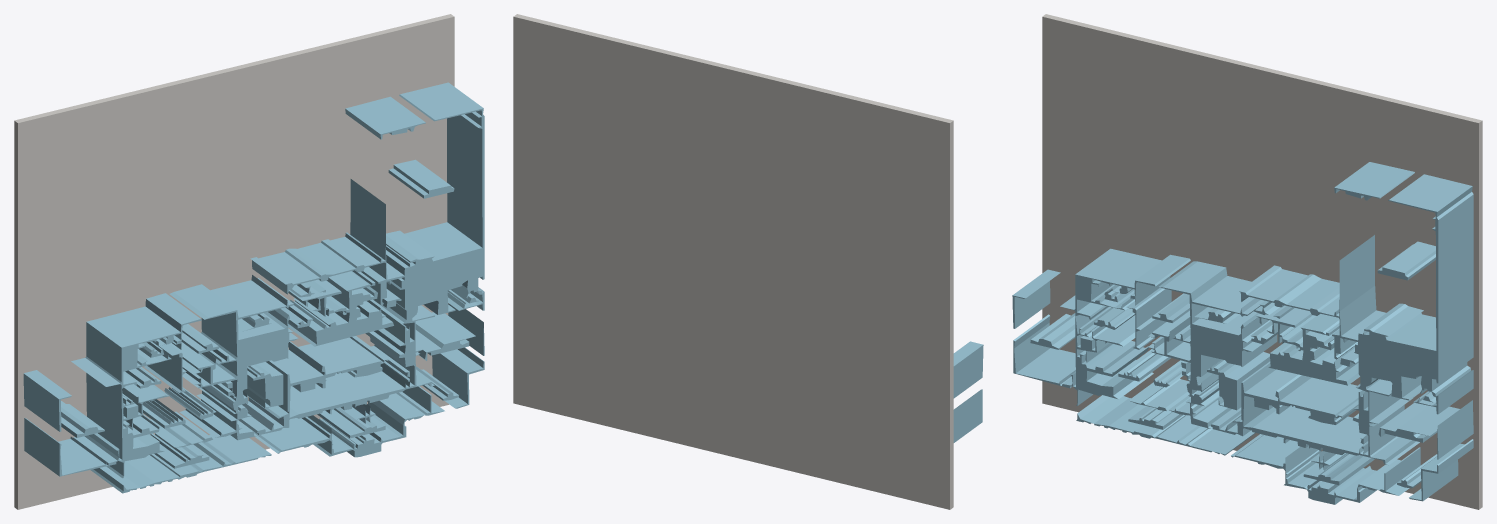
The picture shows the model from 3 angles, left to right: view 1: azimuth 30°, elevation 25°; view 2: azimuth 150°, elevation 25°; view 3: azimuth 330°, elevation 25°; orthographic projection.
Visible parts, largest first — view 1: world; view 2: world; view 3: world.
Boxes of the visible parts, bbox=[...] form: world: bbox=[14, 14, 484, 509]; world: bbox=[513, 14, 983, 509]; world: bbox=[1012, 14, 1482, 509].
Size of the model in its own units: 10.23 by 8.66 by 1.58.
